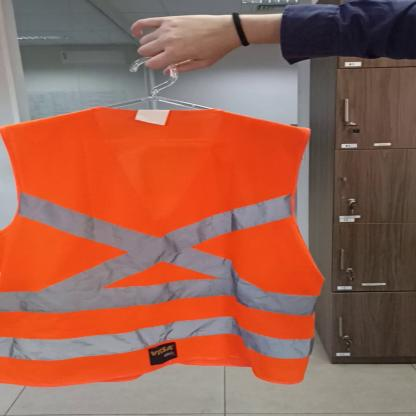colete: (1, 101, 328, 392)
